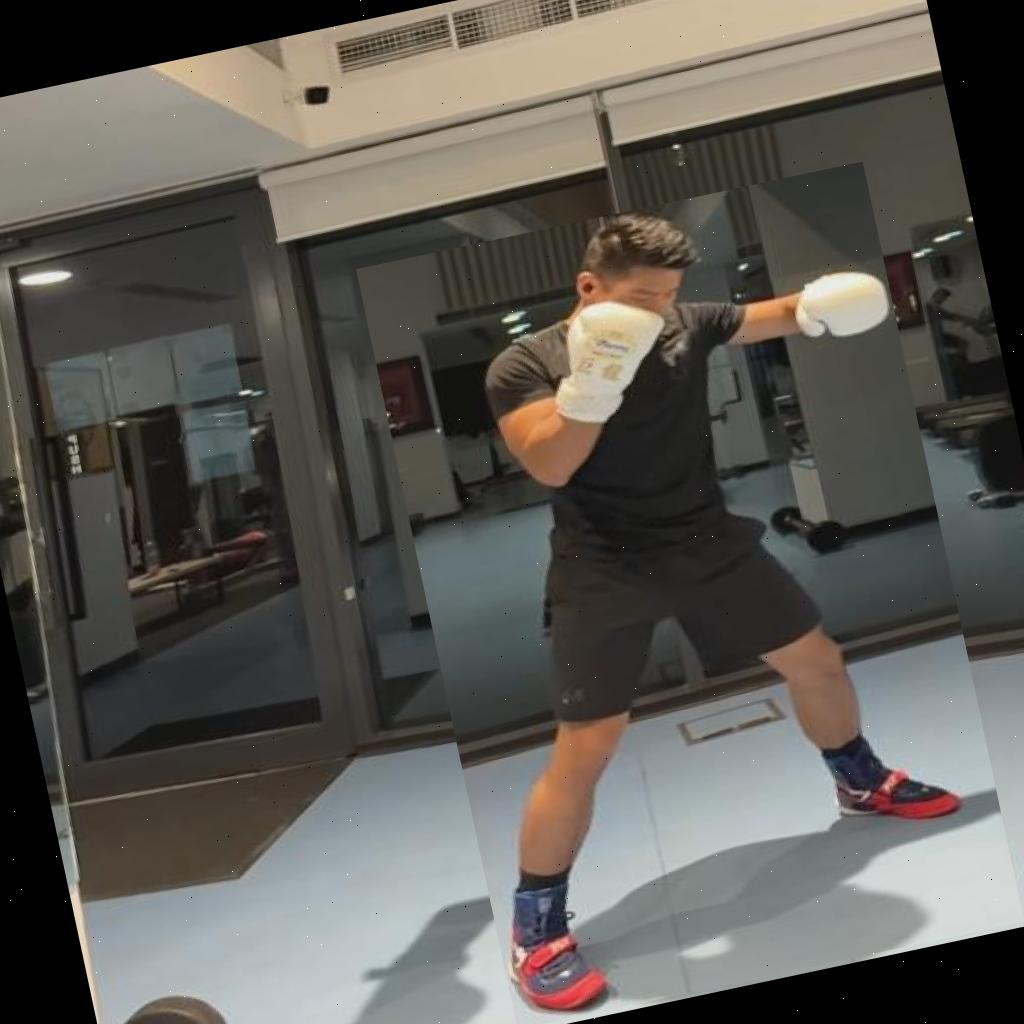hook: (356, 161, 1024, 1024)
